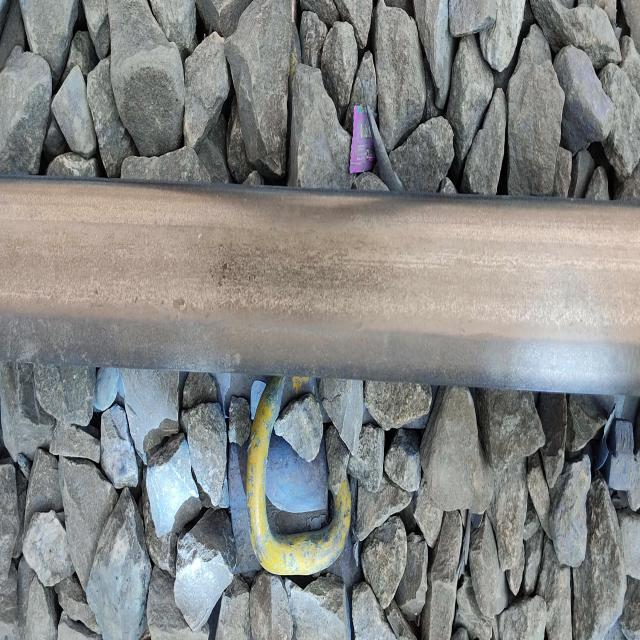Good Fasteners: (216, 373, 351, 576)
